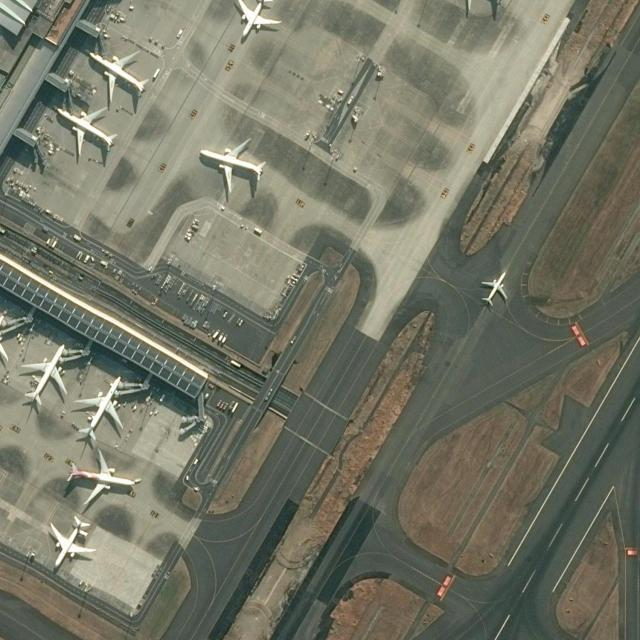Aircraft: (62, 454, 138, 510), (71, 376, 127, 444), (200, 143, 266, 197), (88, 47, 151, 103), (53, 105, 113, 161), (18, 345, 70, 406), (45, 517, 93, 571), (230, 0, 278, 44), (481, 272, 509, 307)
